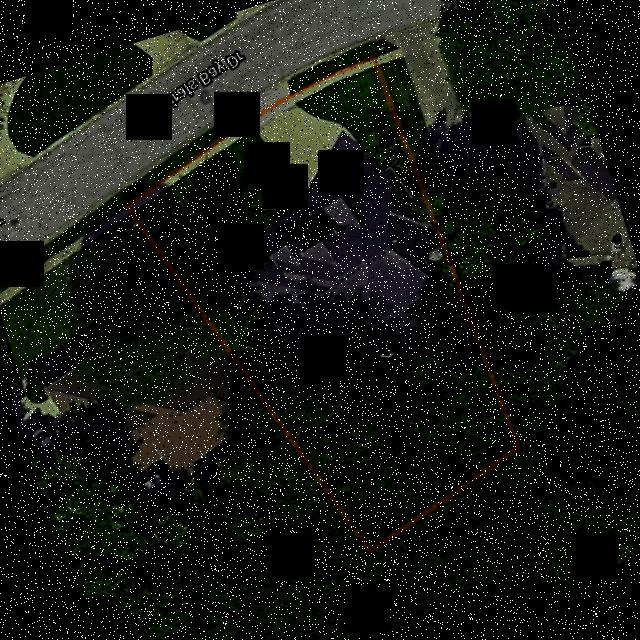Driveway: (247, 99, 374, 213)
Extra Driveway: (237, 77, 287, 120)
Extra Lawn: (116, 109, 241, 202), (288, 41, 373, 93)
House: (248, 168, 438, 357)
Other: (369, 311, 424, 357)
Sidewalk: (128, 128, 254, 210), (286, 57, 375, 102), (257, 204, 304, 251)
